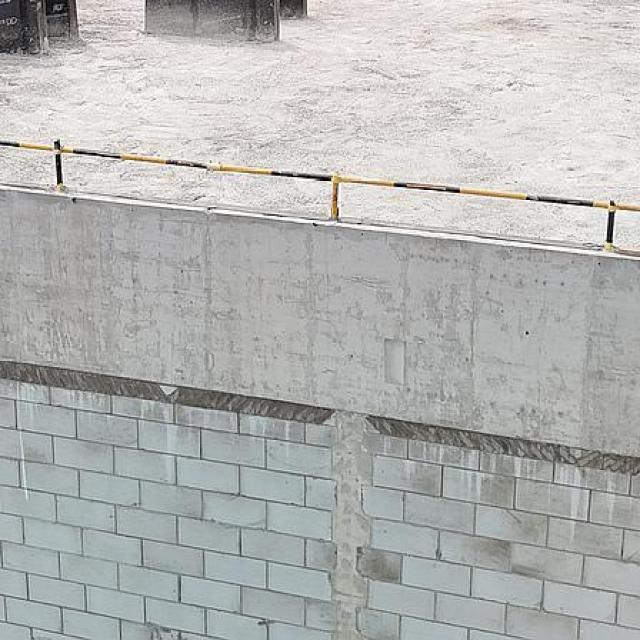edge_guardrail: (0, 138, 640, 252)
